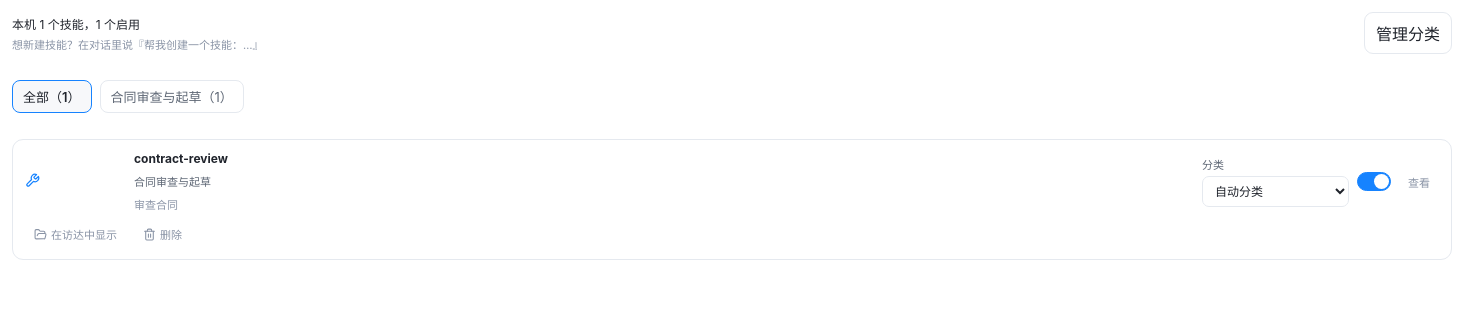
Test: toggle failure surfaces an alert
Step 1. Click the switch named "启用技能 contract-review" → (1374, 182), box [1357,172,1391,191]
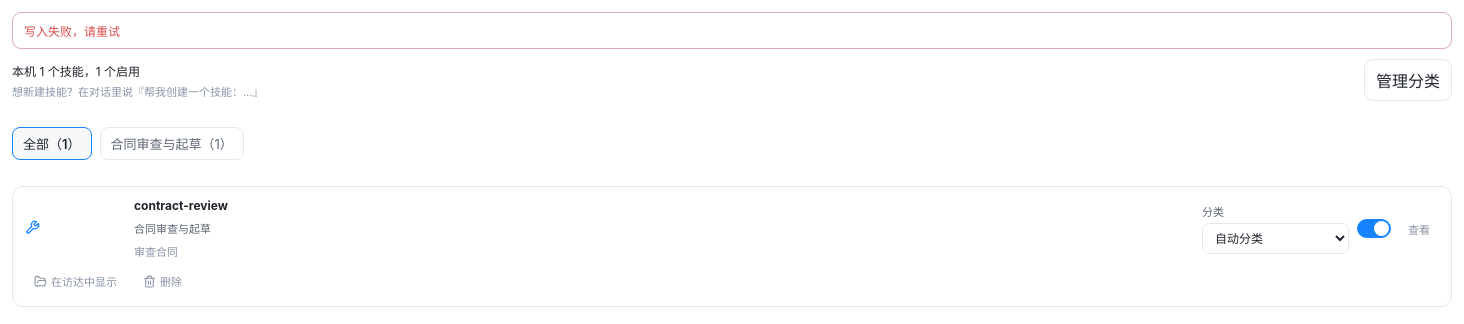
Result: the message reads "写入失败，请重试" at [24,24,120,39]
